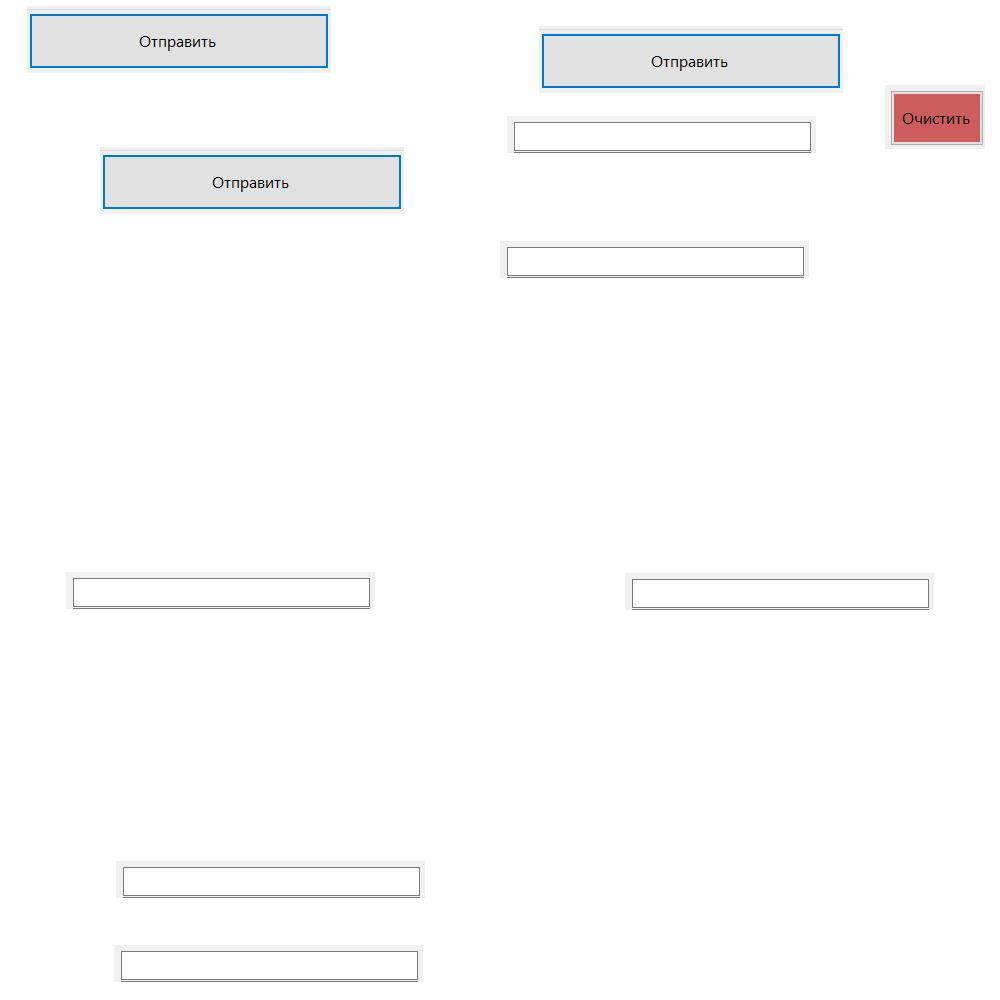Button: (539, 26, 843, 93), (100, 147, 404, 214), (27, 6, 331, 73), (885, 85, 985, 149)
EditText-: (507, 116, 816, 153), (500, 241, 809, 278), (66, 572, 375, 609), (116, 861, 425, 898), (625, 573, 934, 610), (114, 945, 423, 982)
